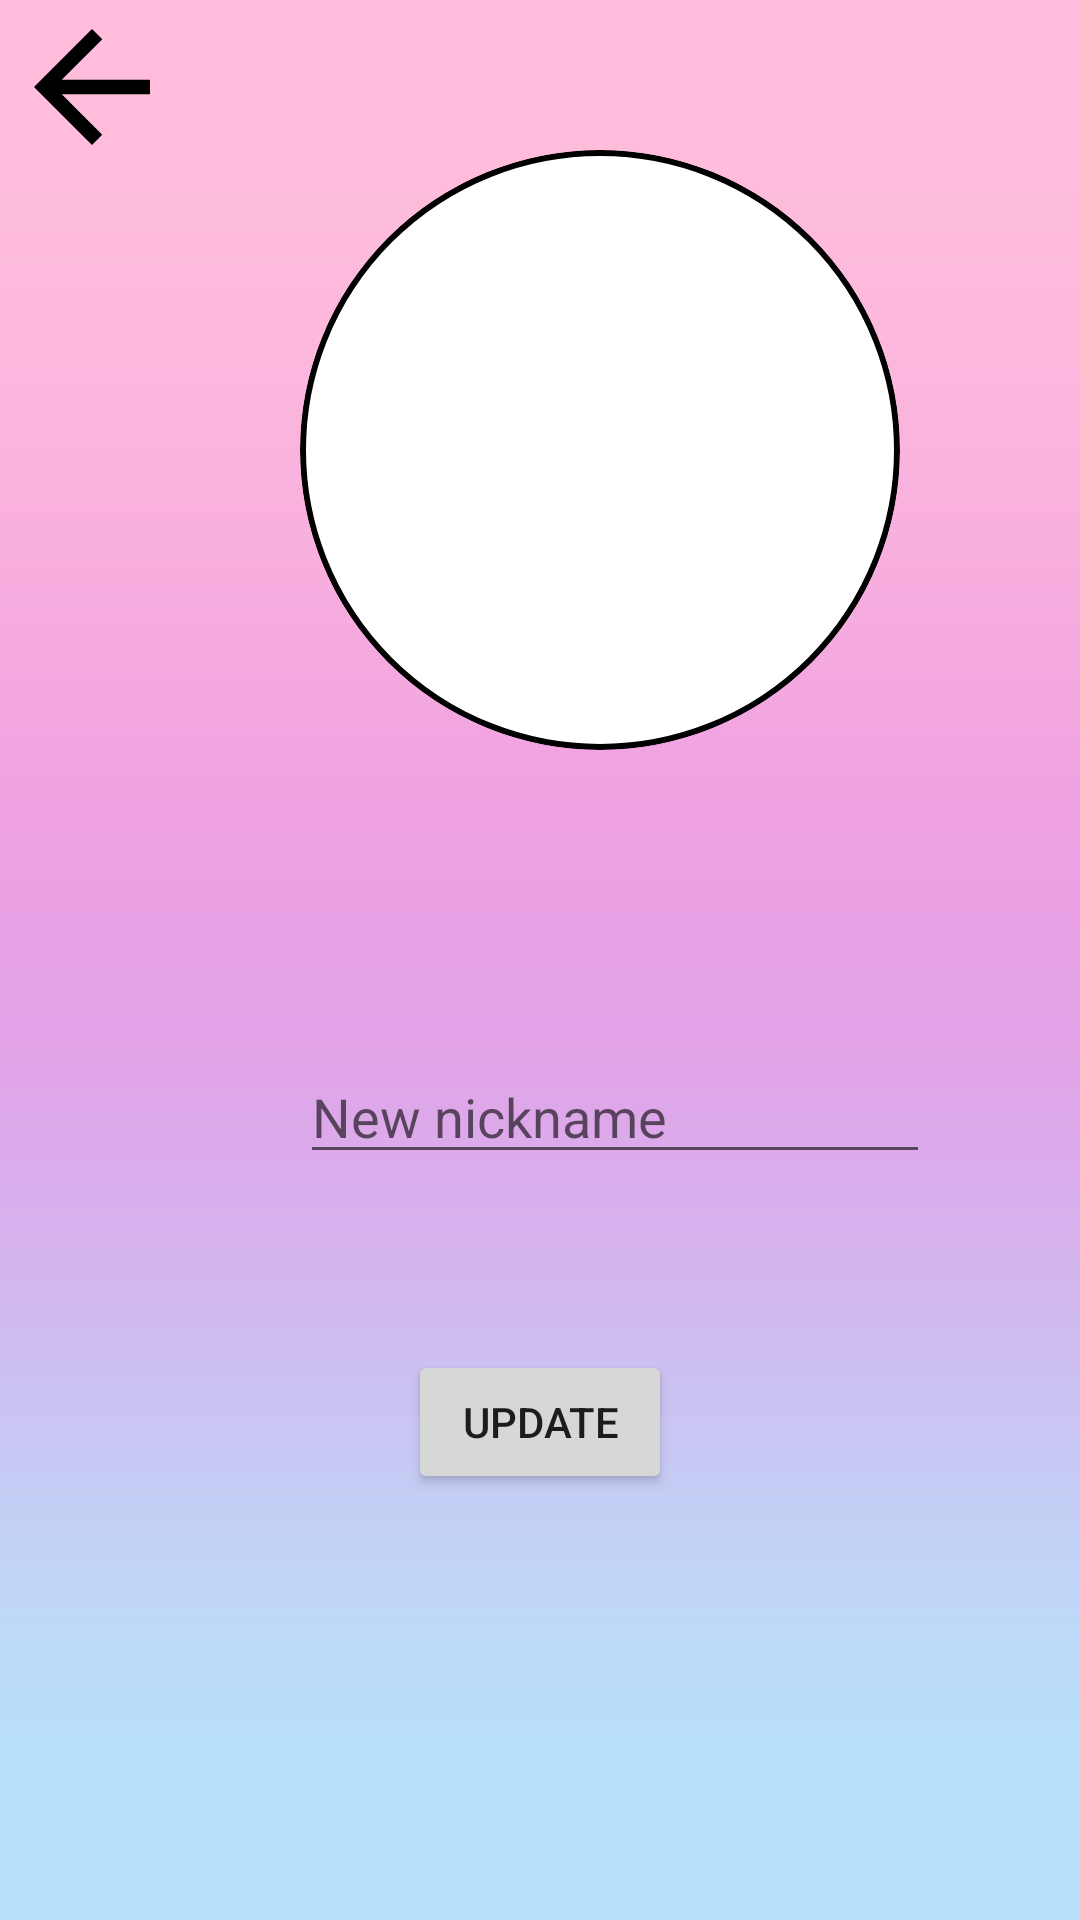

Screen size 1080x1920. Icon name, then its box in pixels as (x1, y1, x2, y2):
arrow back: (34, 29, 150, 145)
